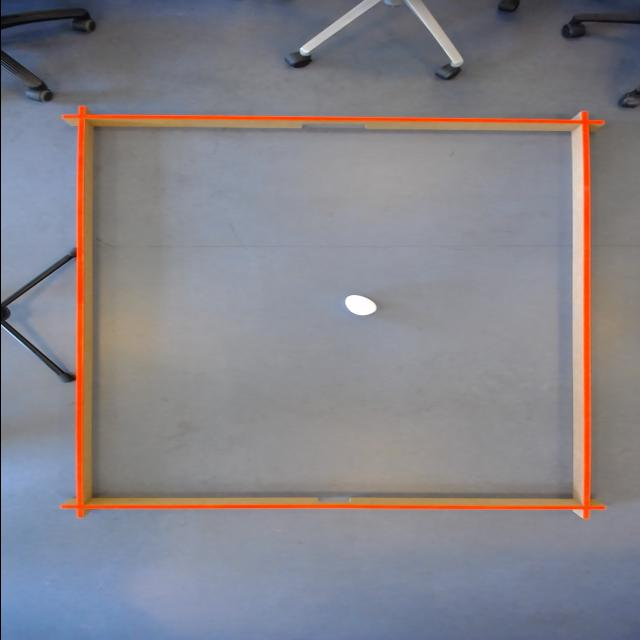egg: (339, 294, 376, 316)
